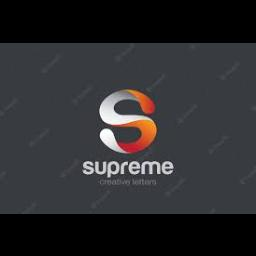s: (97, 85, 161, 155)
